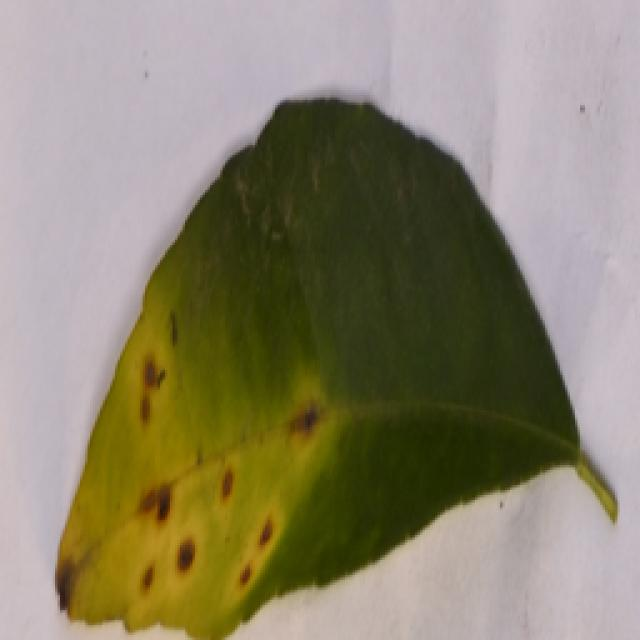canker: (49, 92, 626, 637)
